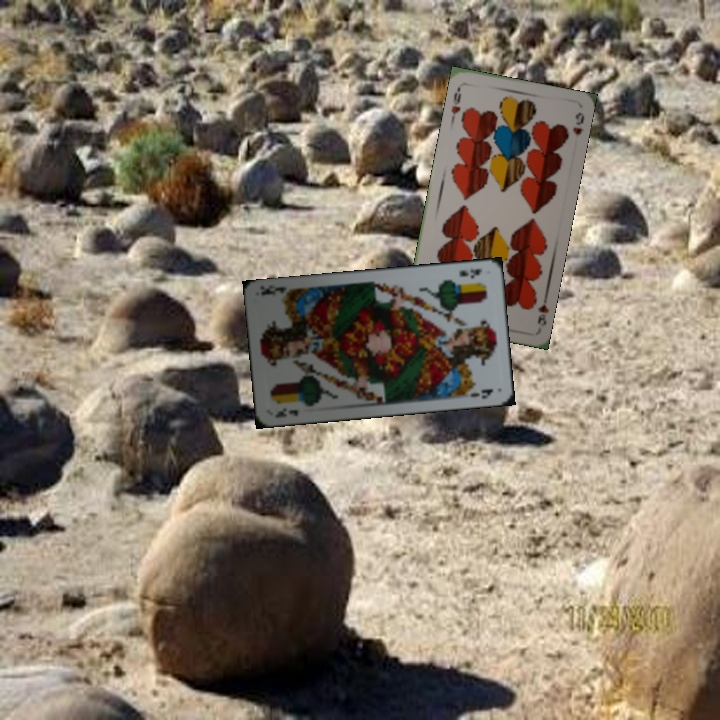EK: (271, 403, 301, 420), (455, 265, 484, 281)
H9: (447, 83, 464, 123), (534, 291, 551, 329)
